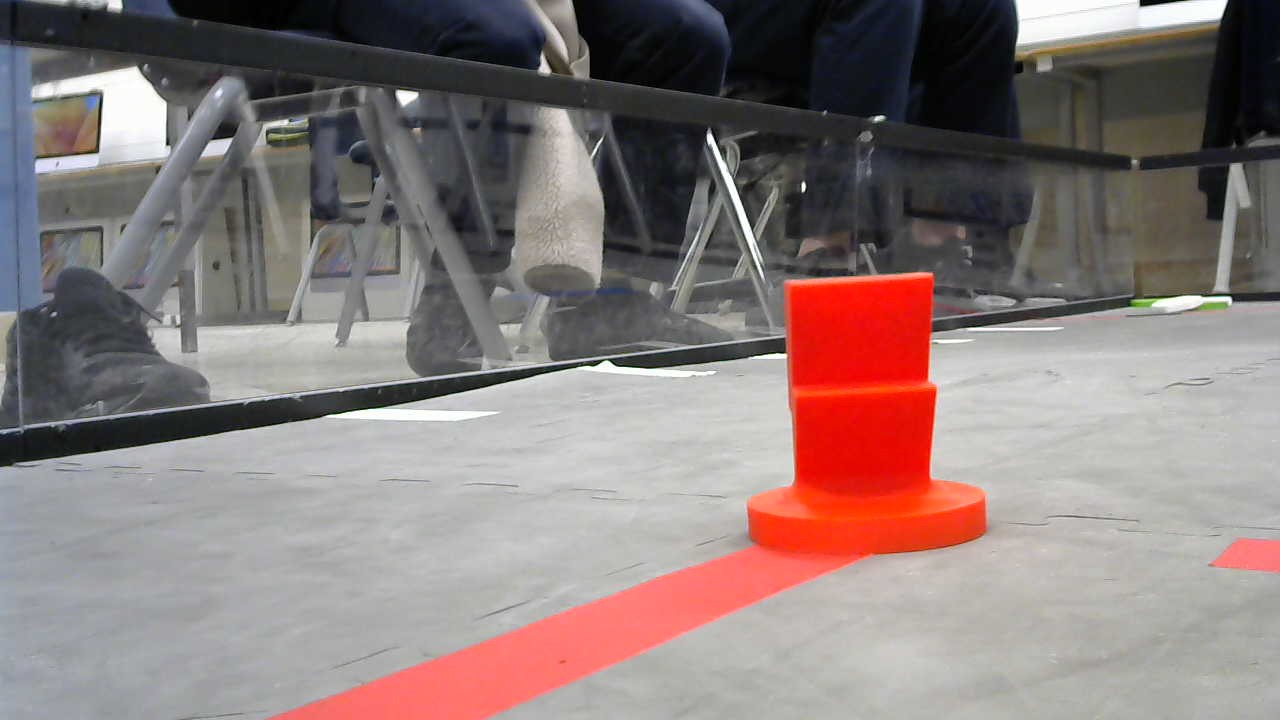redobject: (741, 269, 990, 559)
